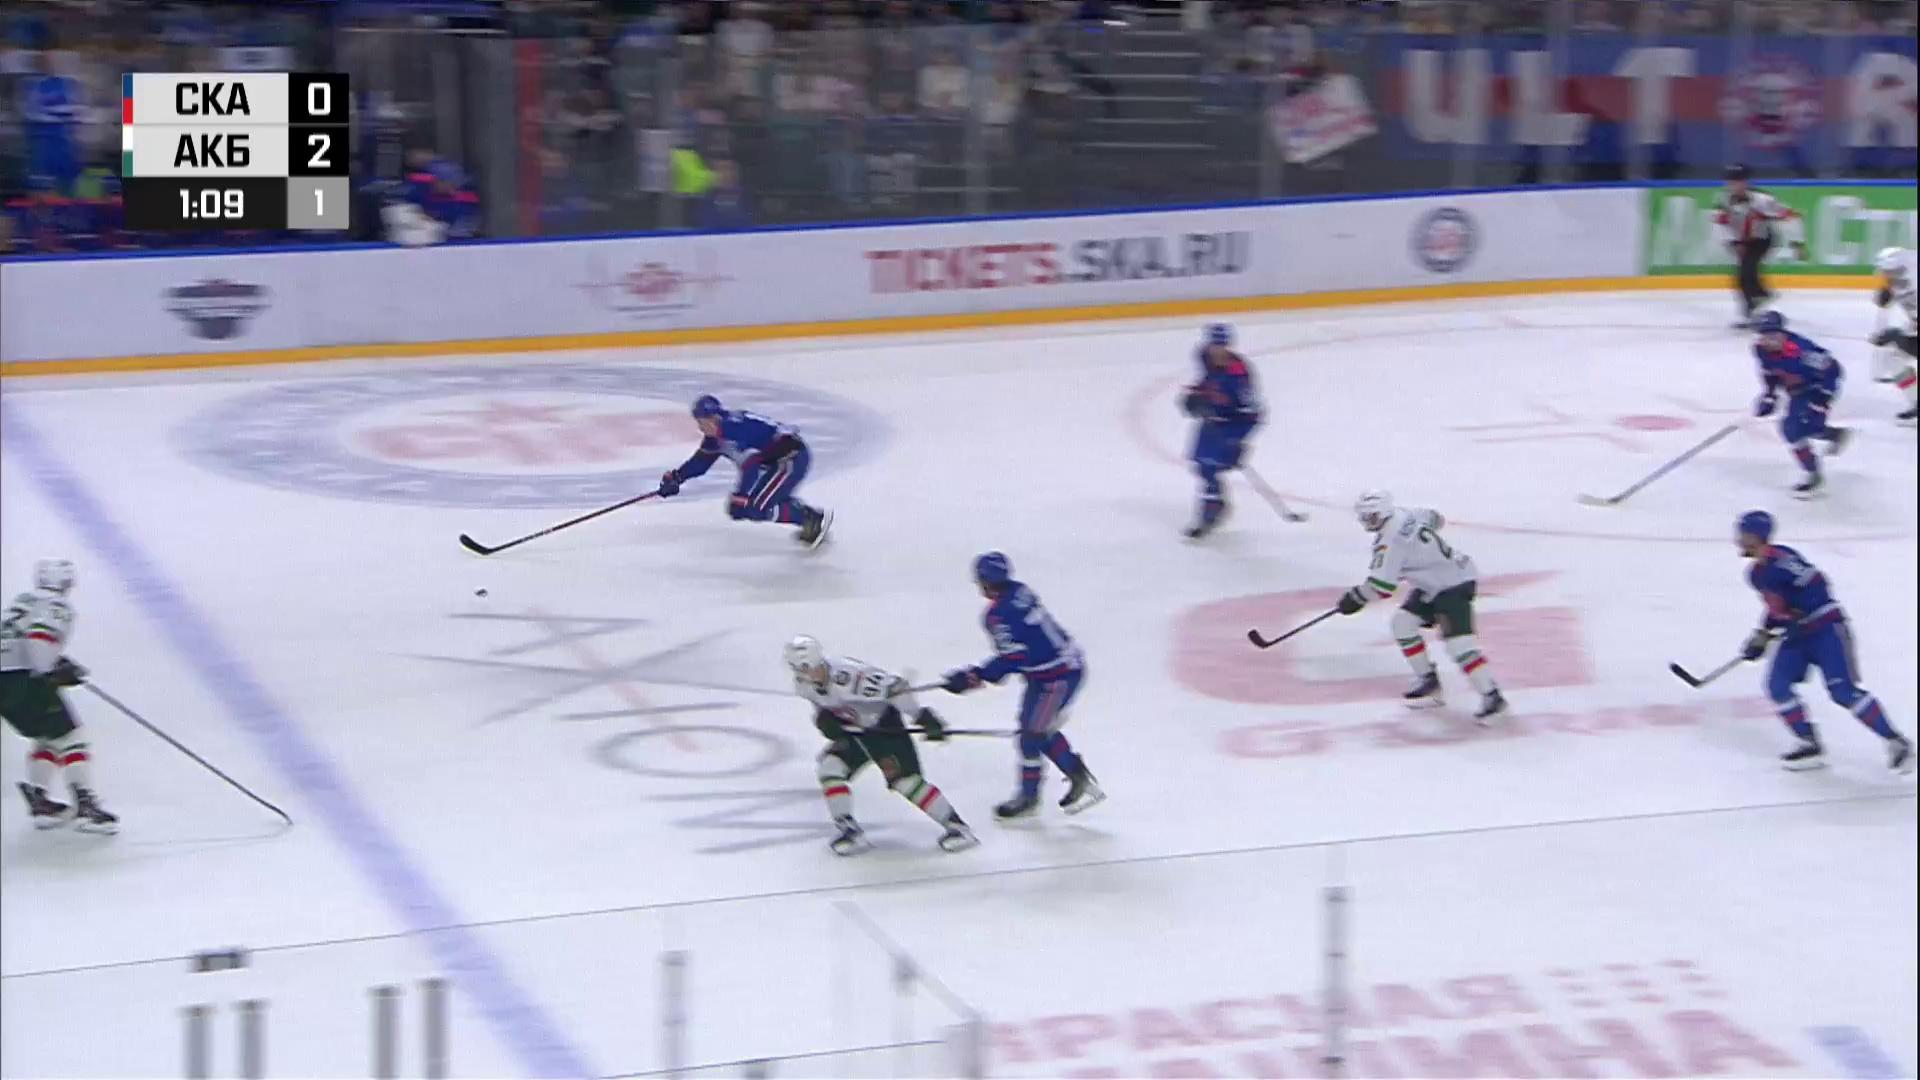ball: (475, 587, 489, 597)
